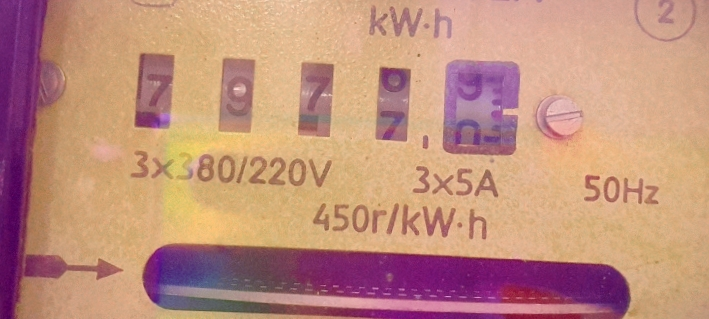0: (450, 112, 484, 151)
7: (141, 69, 173, 112), (300, 71, 332, 114), (376, 106, 407, 143)
9: (221, 72, 256, 118), (454, 65, 486, 101)
screen: (113, 28, 545, 178)
